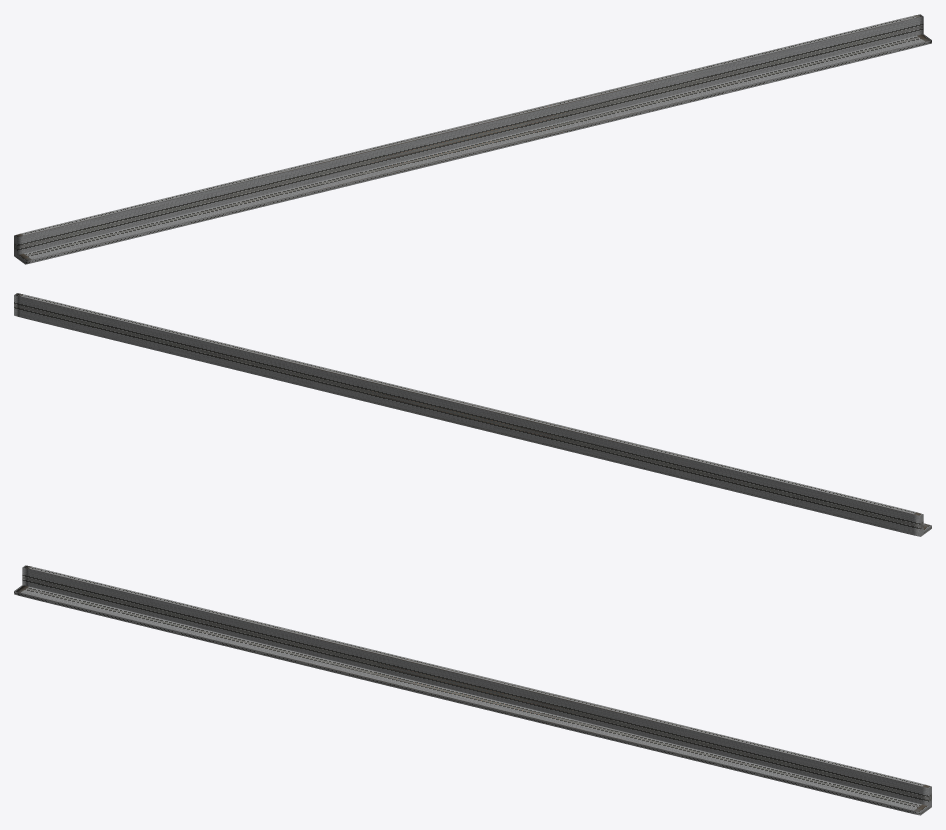
File: coping.glb
3 renders of one model, top to bottom at view 1: azimuth 30°, elevation 25°; view 2: azimuth 150°, elevation 25°; view 3: azimuth 330°, elevation 25°, orthographic.
Visible parts, largest first — view 1: web, return; view 2: web, return; view 3: web, return.
Boxes of the visible parts, <box> form: web: <box>14,14,923,257</box>; return: <box>14,34,931,264</box>; web: <box>14,293,923,536</box>; return: <box>18,316,931,536</box>; web: <box>22,565,931,807</box>; return: <box>14,585,931,815</box>.
Bounding box in the file's own units: 2 × 0.045 × 0.045.
1 material, 1 textured.
